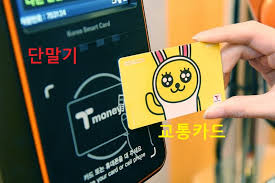terminal: (1, 1, 173, 182)
